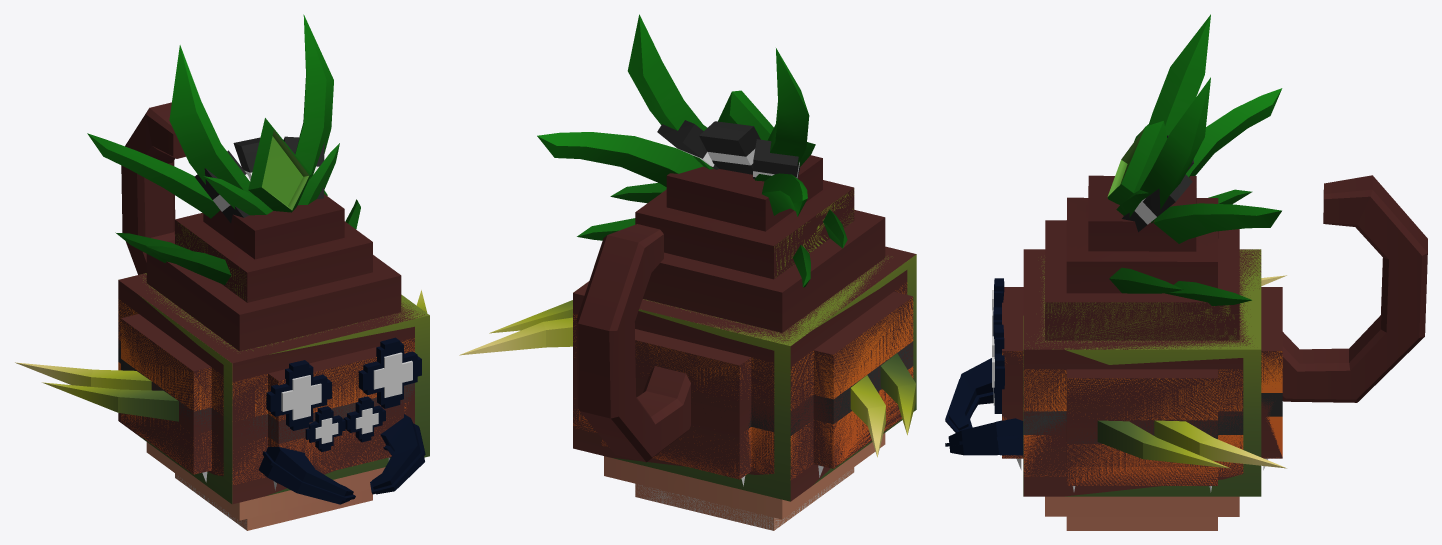
The model's file is Jungle.fbx.
3 renders of one model, left to right at view 1: azimuth 30°, elevation 25°; view 2: azimuth 150°, elevation 25°; view 3: azimuth 270°, elevation 25°, orthographic. The views are drawn at different scales.
Visible parts, largest first — view 1: Chimpanzee_Egg, King_Snake_Egg, Spider_Egg, Tiger_Egg, Crocodie_Egg, Toucan_Egg; view 2: Chimpanzee_Egg, King_Snake_Egg, Tiger_Egg, Crocodie_Egg, Toucan_Egg; view 3: Chimpanzee_Egg, King_Snake_Egg, Tiger_Egg, Crocodie_Egg, Spider_Egg, Toucan_Egg.
Part boxes in pixels (box(x1,y1,x2,y2)): Chimpanzee_Egg: box(118, 102, 424, 530); King_Snake_Egg: box(15, 14, 427, 421); Spider_Egg: box(258, 337, 425, 504); Tiger_Egg: box(118, 299, 414, 484); Crocodie_Egg: box(138, 224, 429, 530); Toucan_Egg: box(194, 136, 324, 222); Chimpanzee_Egg: box(573, 155, 916, 530); King_Snake_Egg: box(459, 14, 915, 457); Tiger_Egg: box(573, 283, 913, 479); Crocodie_Egg: box(611, 188, 916, 530); Toucan_Egg: box(657, 120, 799, 178); Chimpanzee_Egg: box(1002, 175, 1427, 530); King_Snake_Egg: box(1097, 14, 1286, 468); Tiger_Egg: box(1002, 351, 1282, 485); Crocodie_Egg: box(1016, 249, 1267, 496); Spider_Egg: box(945, 278, 1023, 455); Toucan_Egg: box(1122, 135, 1193, 232).
Bounding box in the file's own units: 127 × 139 × 134.
